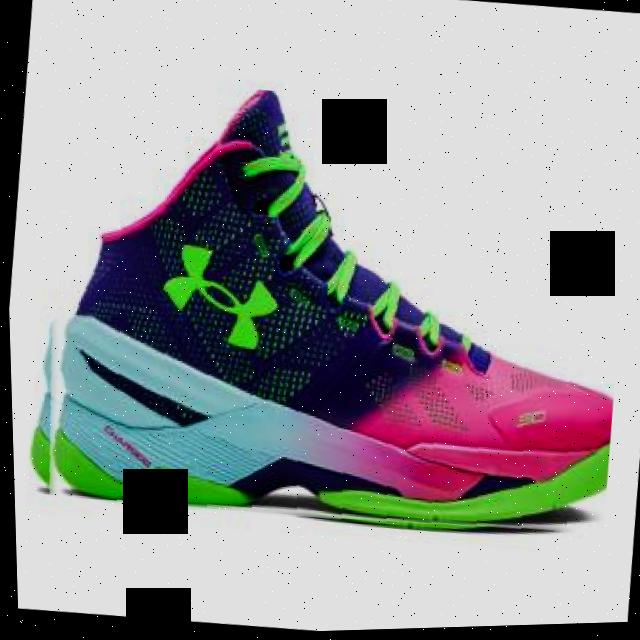shoe: (10, 61, 640, 562)
